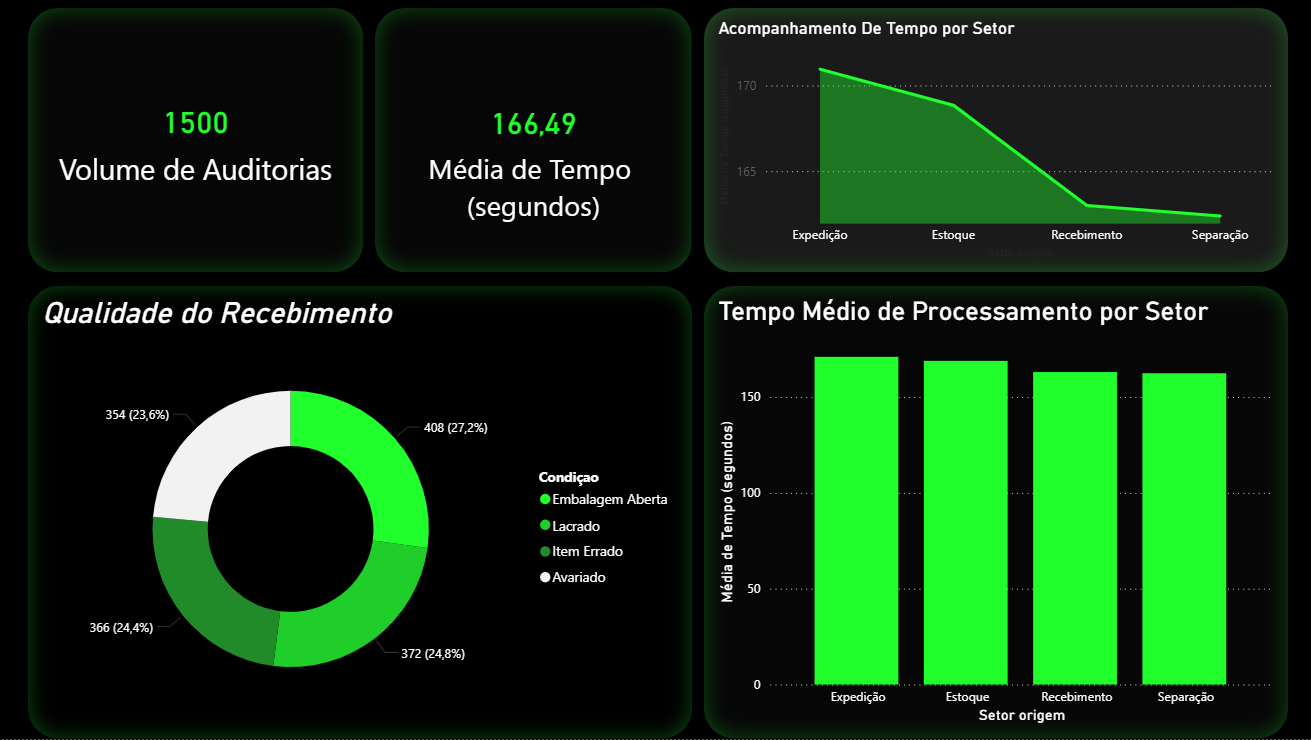

What the dashboard file says about the page in this screenshot:
{"tool":"powerbi","page":{"name":"Página 1","canvas":[1280,720],"ordinal":0},"visuals":[{"type":"clusteredColumnChart","title":"Tempo Médio de Processamento por Setor","fields":{"Category":["base_completa_cajamar csv.Setor origem"],"Y":["Avg(base_completa_cajamar csv.Tempo (segundos))"]},"box":[686.7,278.2,570,441.6],"z":0},{"type":"card","fields":{"Values":["CountNonNull(base_completa_cajamar csv.ID)"]},"box":[29.2,7.8,327.8,258.7],"z":1000},{"type":"donutChart","title":"Qualidade do Recebimento","fields":{"Category":["base_completa_cajamar csv.Condiçao"],"Y":["CountNonNull(base_completa_cajamar csv.ID)"]},"box":[29.2,278.2,647.8,441.6],"z":2000},{"type":"card","fields":{"Values":["Avg(base_completa_cajamar csv.Tempo (segundos))"]},"box":[366.7,7.8,310.3,258.7],"z":3000},{"type":"areaChart","title":"Acompanhamento De Tempo por Setor","fields":{"Category":["base_completa_cajamar csv.Setor origem"],"Y":["Avg(base_completa_cajamar csv.Tempo (segundos))"]},"box":[686.7,7.8,570,258.7],"z":4000}]}

Visuals, with their boxes in screenshot pixels (x1, y1, x2, y2), scaled from the page's 1280x720 canvas onto the 1311x740 screenshot:
"Tempo Médio de Processamento por Setor" clusteredColumnChart: locate(703, 286, 1287, 739)
card - CountNonNull(base_completa_cajamar csv.ID): locate(30, 8, 366, 274)
"Qualidade do Recebimento" donutChart: locate(30, 286, 693, 739)
card - Avg(base_completa_cajamar csv.Tempo (segundos)): locate(376, 8, 693, 274)
"Acompanhamento De Tempo por Setor" areaChart: locate(703, 8, 1287, 274)
